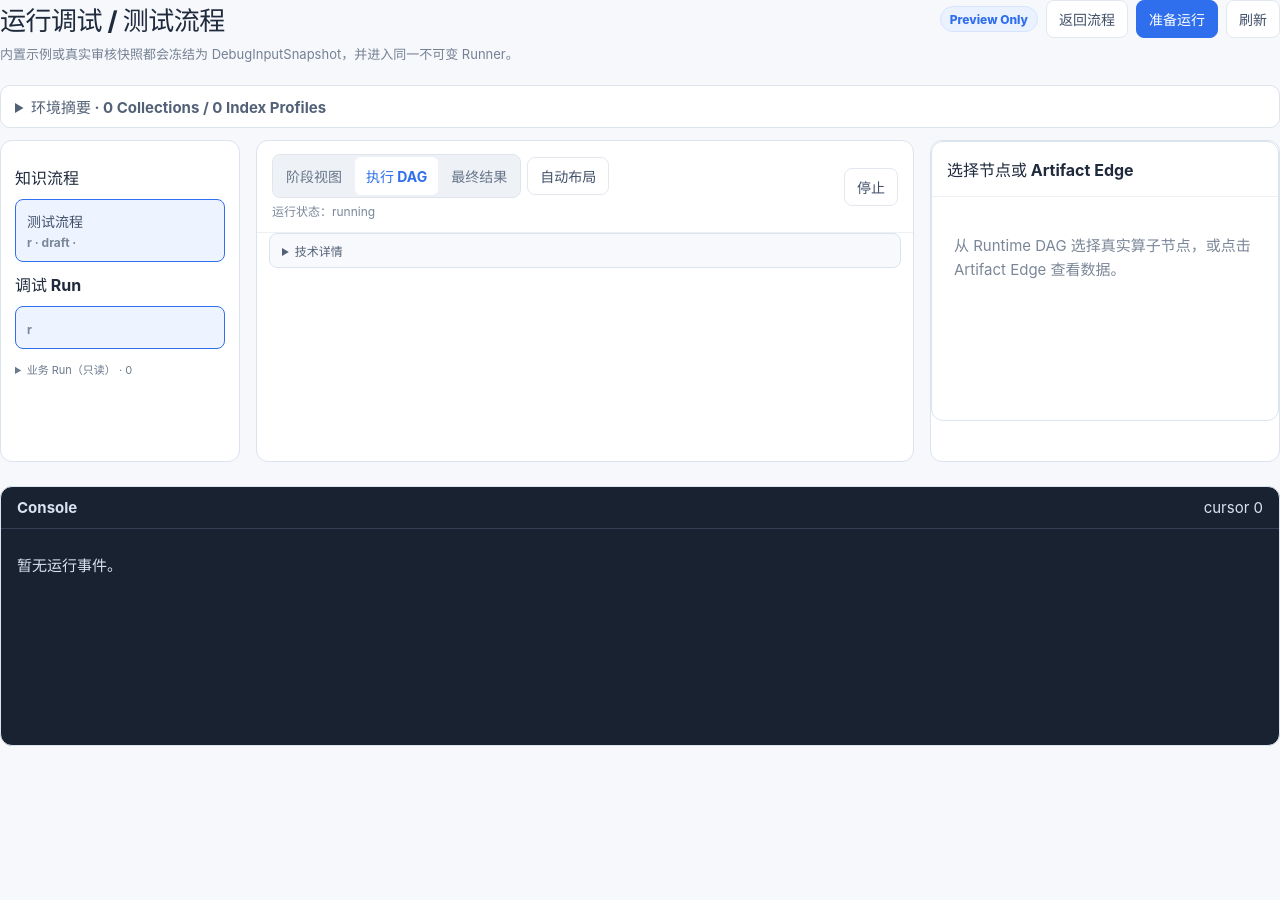
waits for all business input selections before automatically preflighting again
Click the button "准备运行" at (1177, 19), box [1136,0,1218,38]
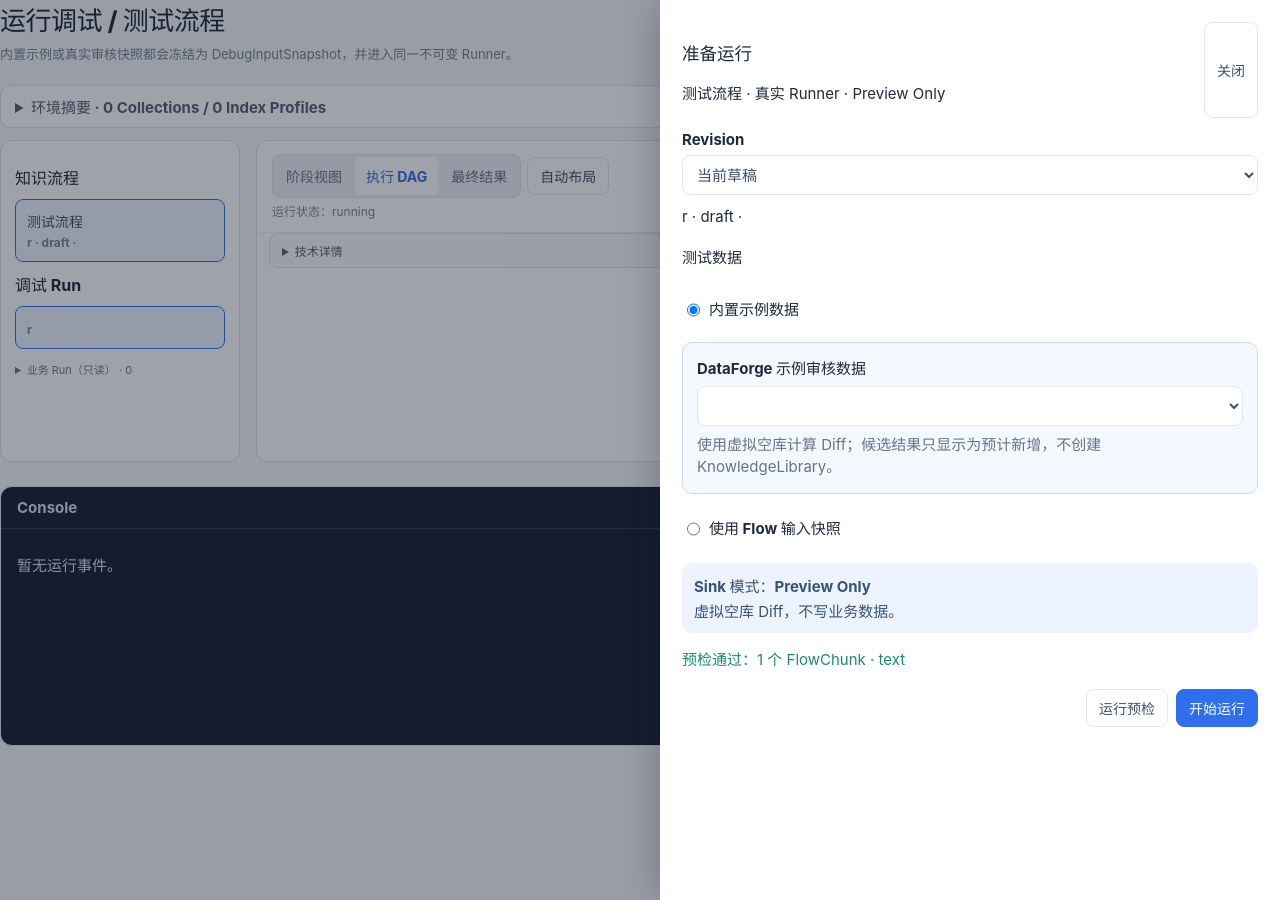
Click the radio button labelled "使用 Flow 输入快照" at (694, 529), box [687,509,700,549]
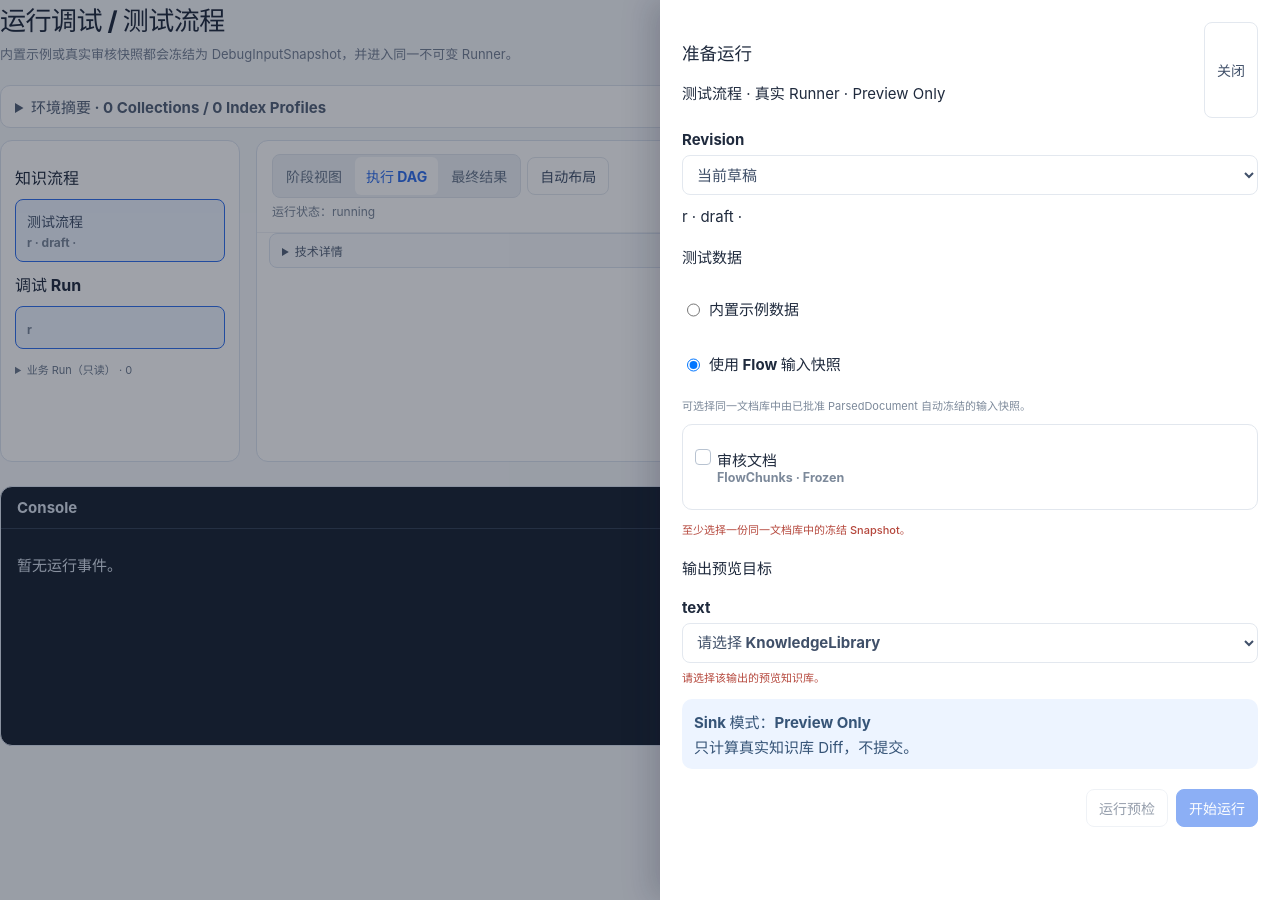
Click the checkbox labelled "审核文档 FlowChunks · Frozen" at (703, 457), box [695,449,711,465]
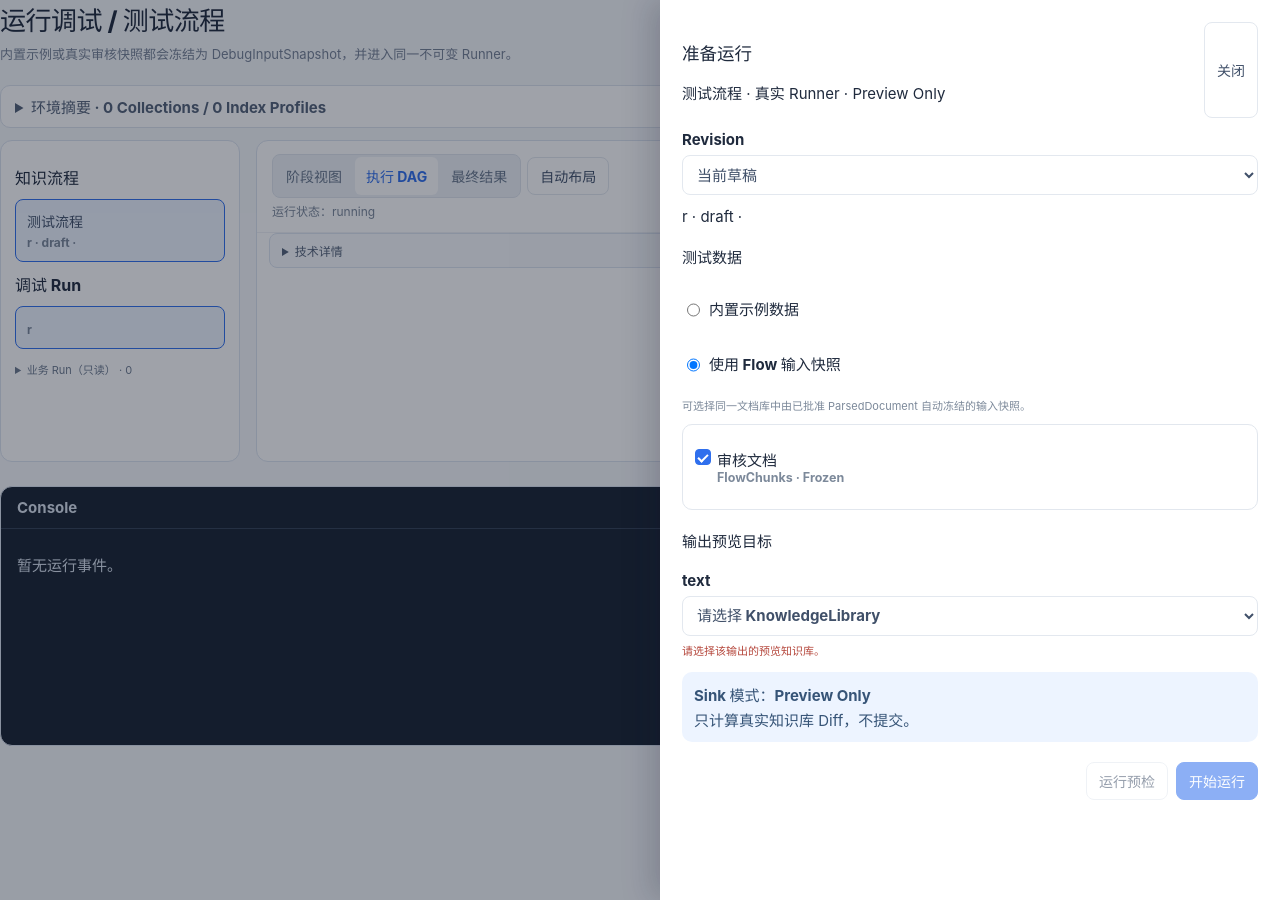
Select "文本知识库" in the dropdown labelled "text 请选择该输出的预览知识库。" at (970, 616), box [682,596,1258,636]
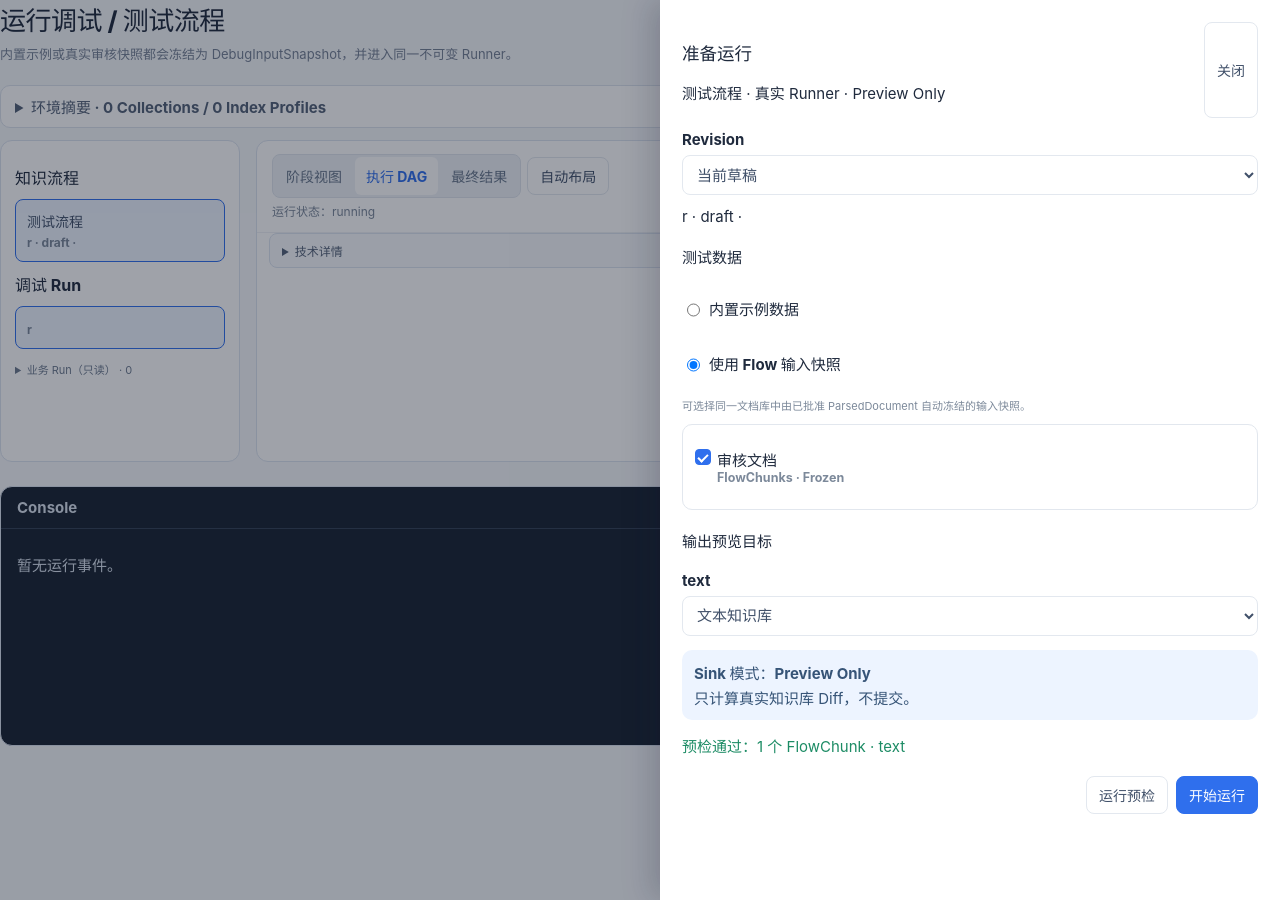
Click the checkbox labelled "审核文档 FlowChunks · Frozen" at (703, 457), box [695,449,711,465]
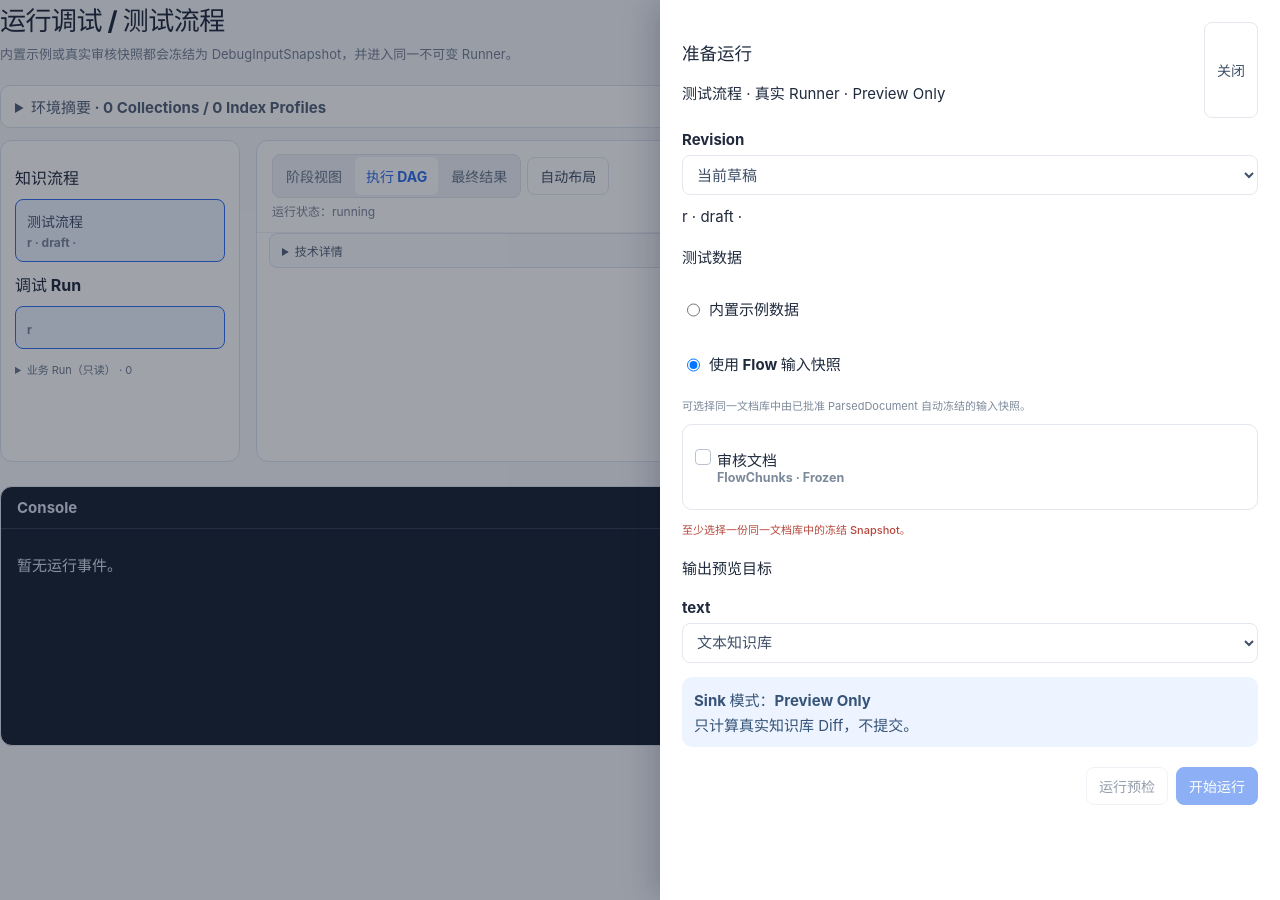
Expected: the button "开始运行" is disabled, [1176,767,1258,805]
